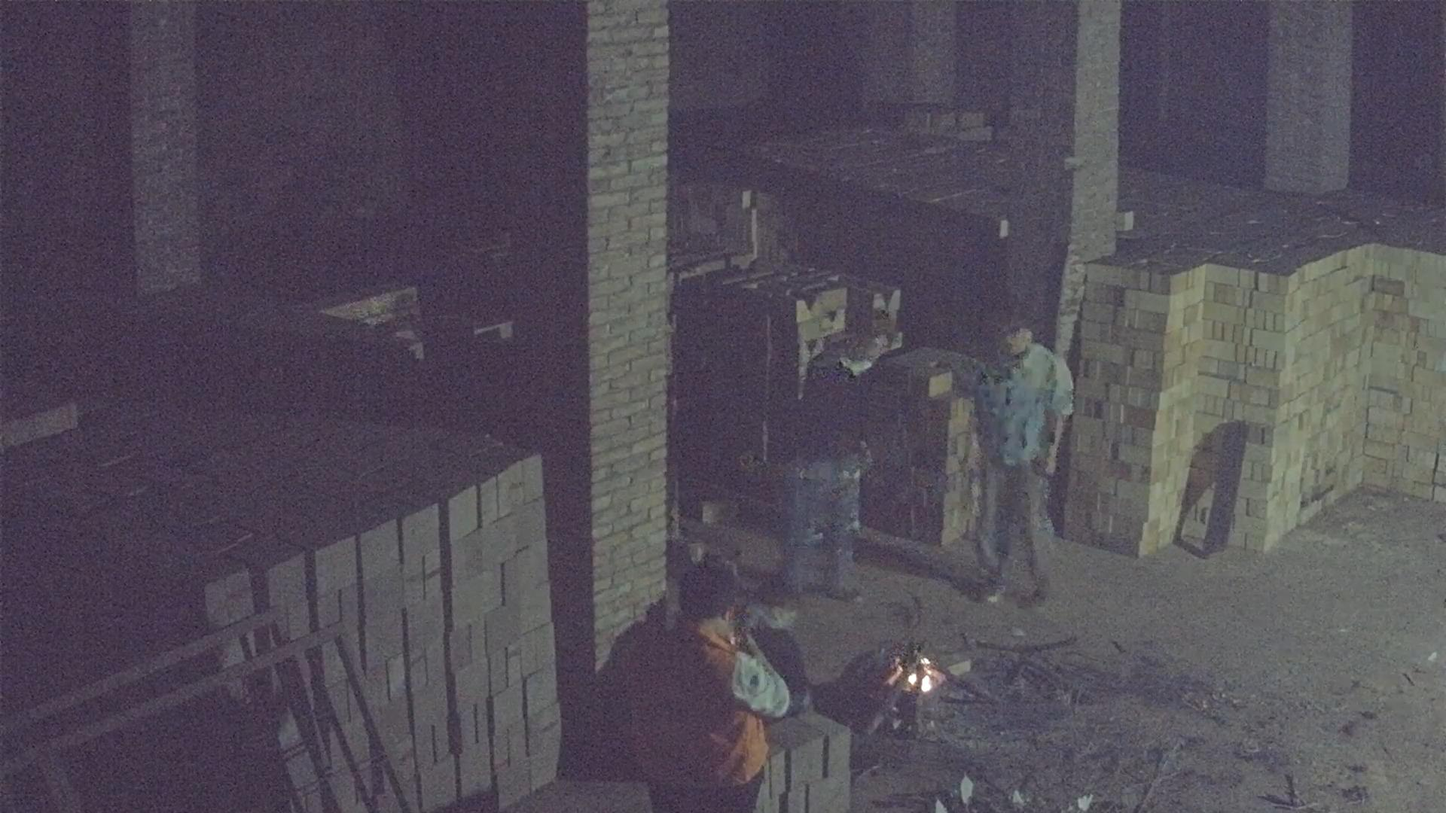fire: (895, 650, 944, 695)
